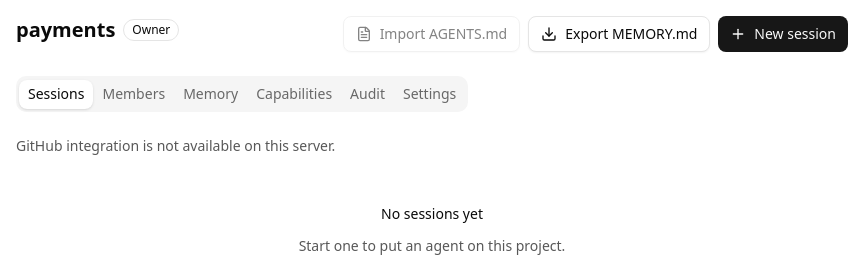
CapabilitiesPanel › says the marketplace is unavailable when the server answers 404
Press the mouse on the tab "Capabilities" at (294, 94), box [247,80,341,108]
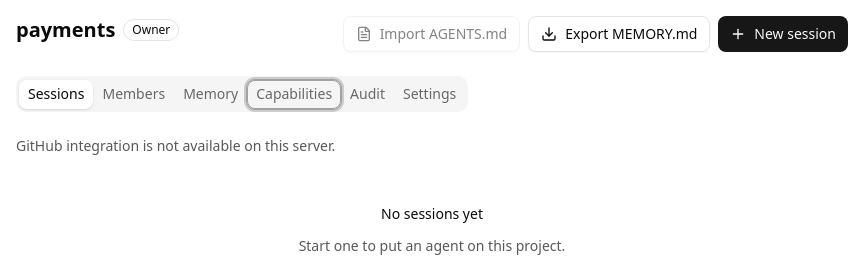
Click the tab "Capabilities" at (294, 94), box [247,80,341,108]
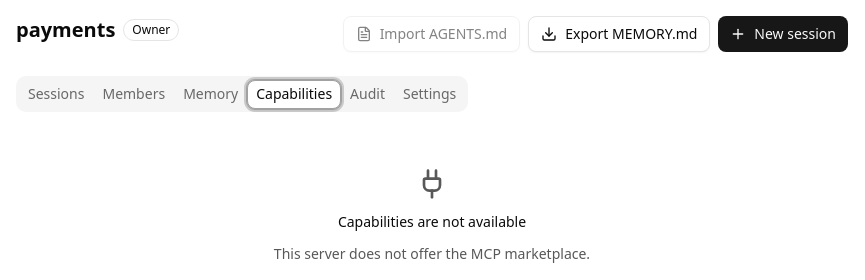
Check: the text "Capabilities are not available" is shown, box [338,212,526,232]
